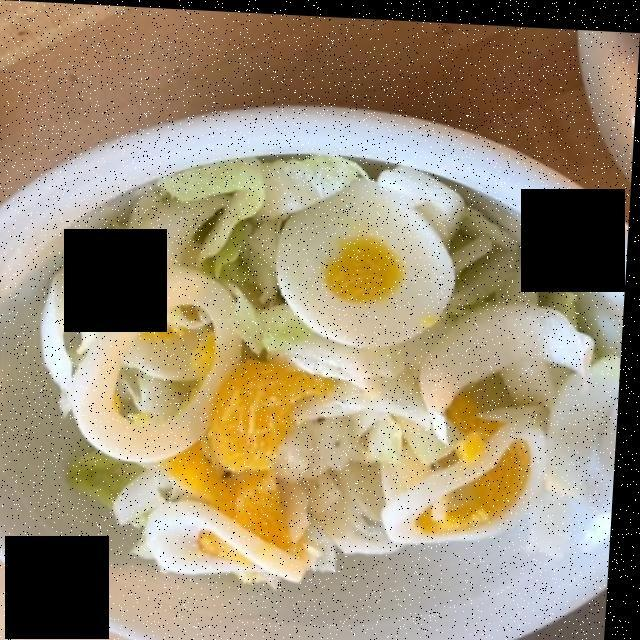egg: (69, 189, 562, 578)
